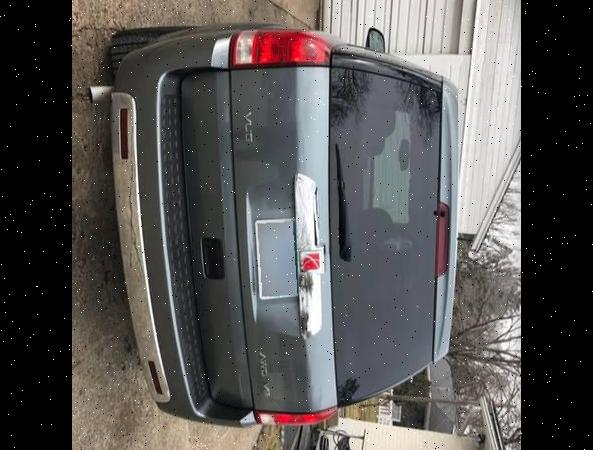Left_Taillight: (229, 24, 330, 64)
Rear_Bumper: (116, 25, 255, 426)
Rear_Windshield: (324, 51, 439, 407)
Right_Taillight: (250, 405, 334, 425)
Roof: (430, 77, 456, 360)
Tailgate: (181, 64, 333, 411)
